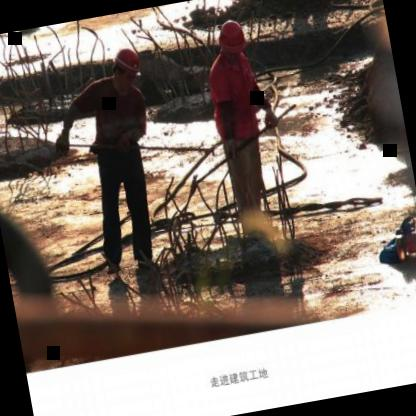helmet: (212, 15, 249, 66), (106, 45, 144, 93)
